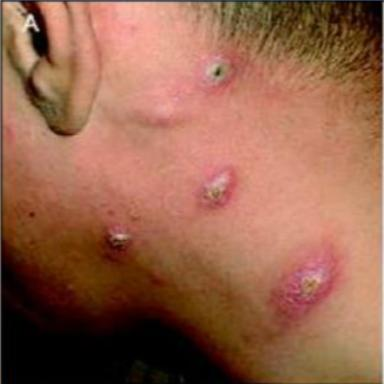Leishmanios: (276, 245, 338, 318), (102, 223, 147, 262), (200, 165, 236, 206), (202, 55, 233, 93)
